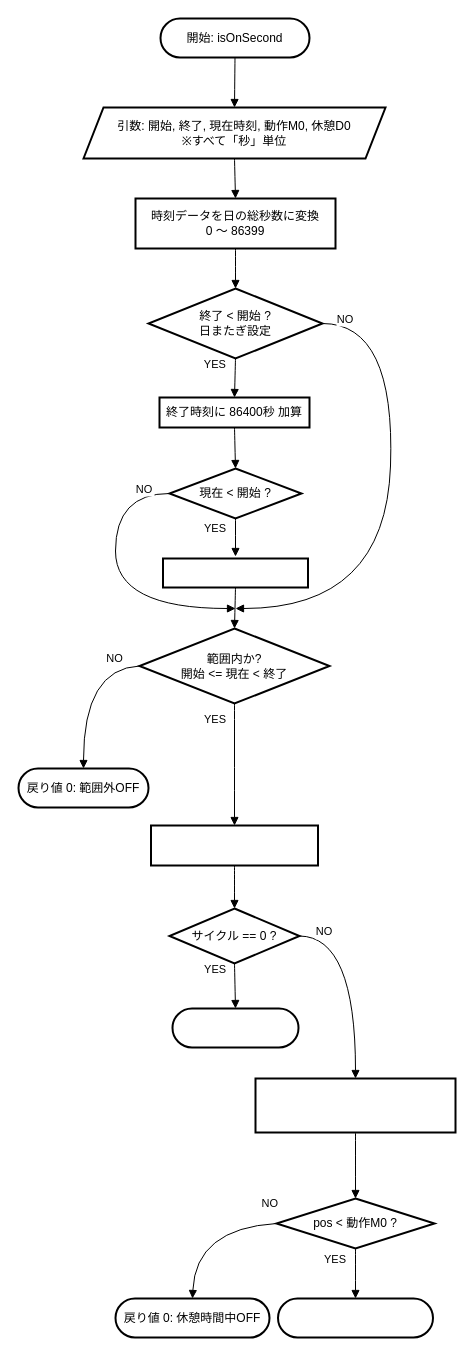
Some shapes in this 473 by 1355 pixel diagram are drawn without their labels. The box of each missing label's shape, as (x1, y1, x2, y2) in pixels:
サイクル = 動作M0 + 休憩D0: (150, 824, 318, 866)
サイクル内の経過時間算出 pos = 現在 - 開始 % サイクル: (254, 1077, 456, 1133)
戻り値 1: 動作時間内ON: (276, 1297, 434, 1338)
戻り値 3: 常時ON: (171, 1007, 299, 1048)
現在時刻に 86400秒 加算: (162, 557, 308, 588)
